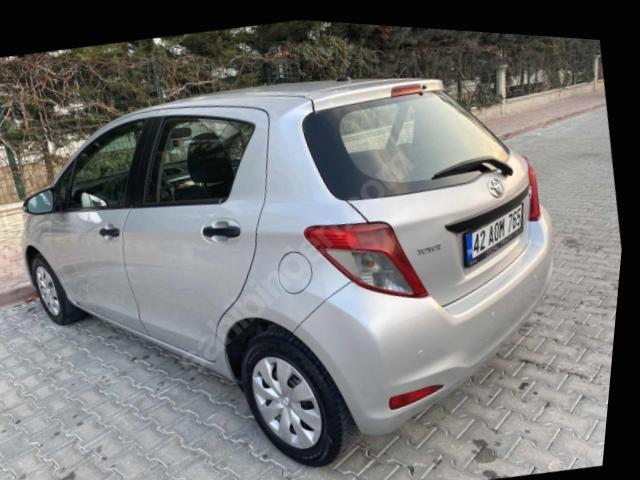plaka: (465, 203, 522, 264)
